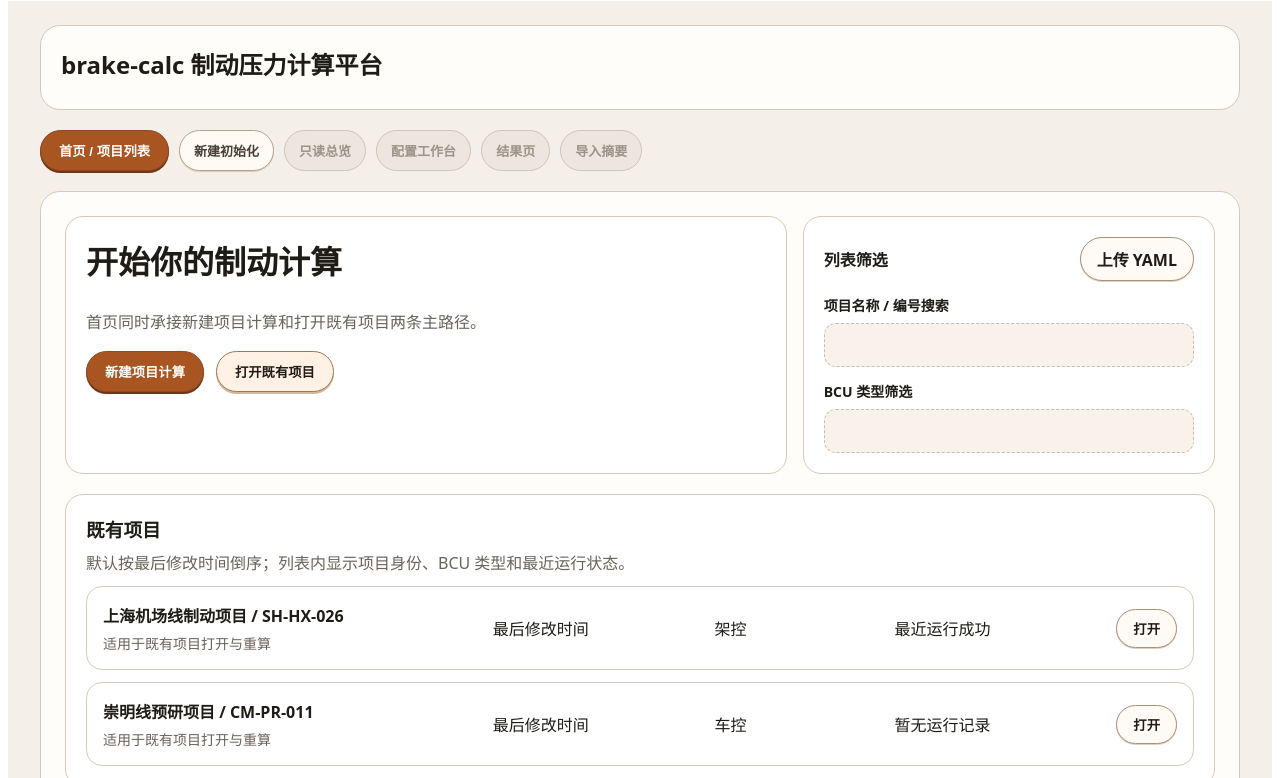
Test: App shell › renders the load and air spring form slice inside the workbench
The image size is (1280, 778).
Step 1. Click the button "首页 / 项目列表" → (105, 150), box [40, 130, 169, 171]
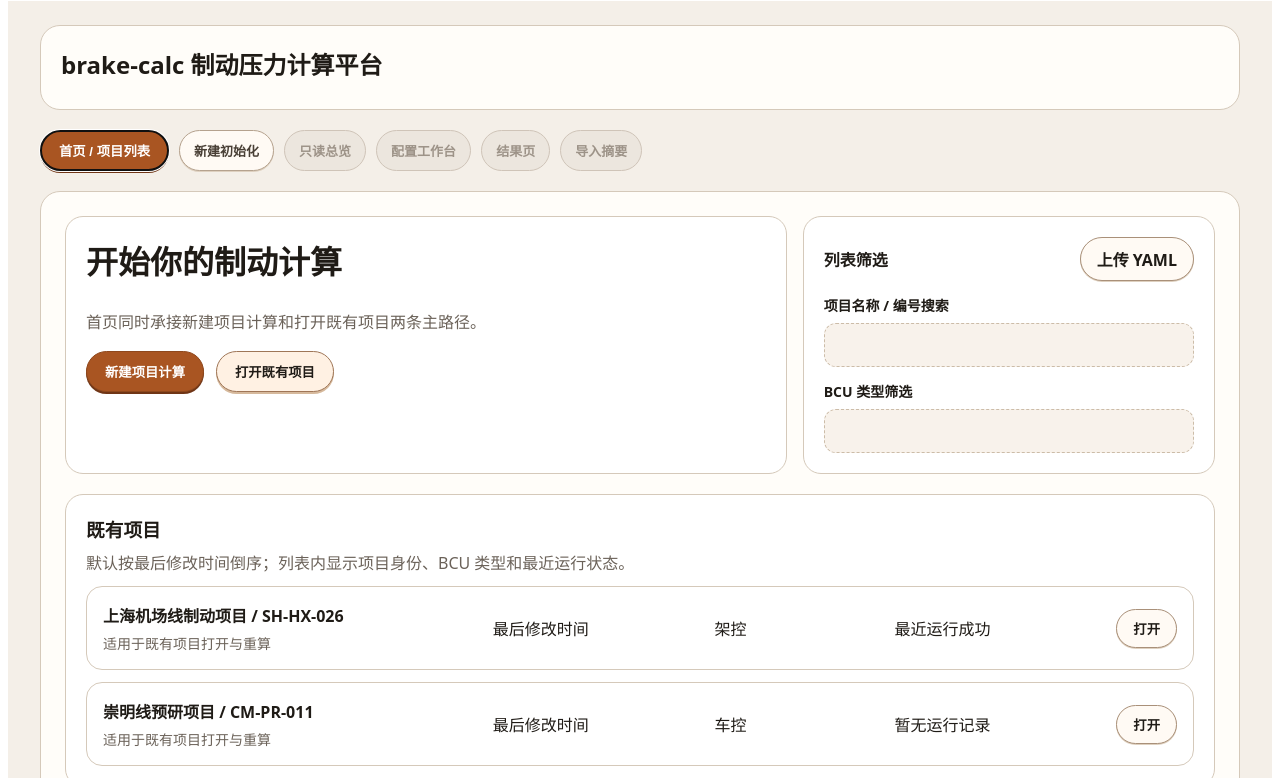
Step 2. Click the button "打开既有项目" → (275, 372), box [216, 351, 334, 392]
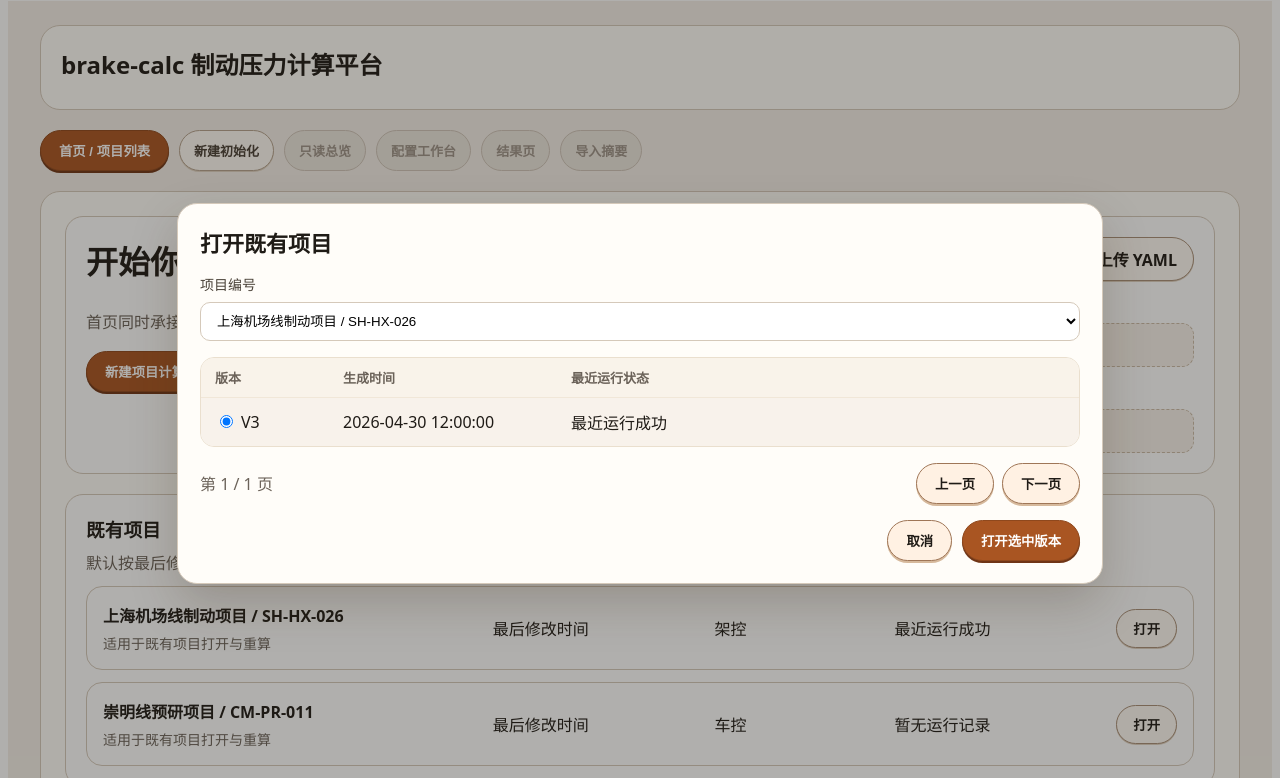
Step 3. Click the button "打开选中版本" → (1021, 540), box [962, 520, 1080, 560]
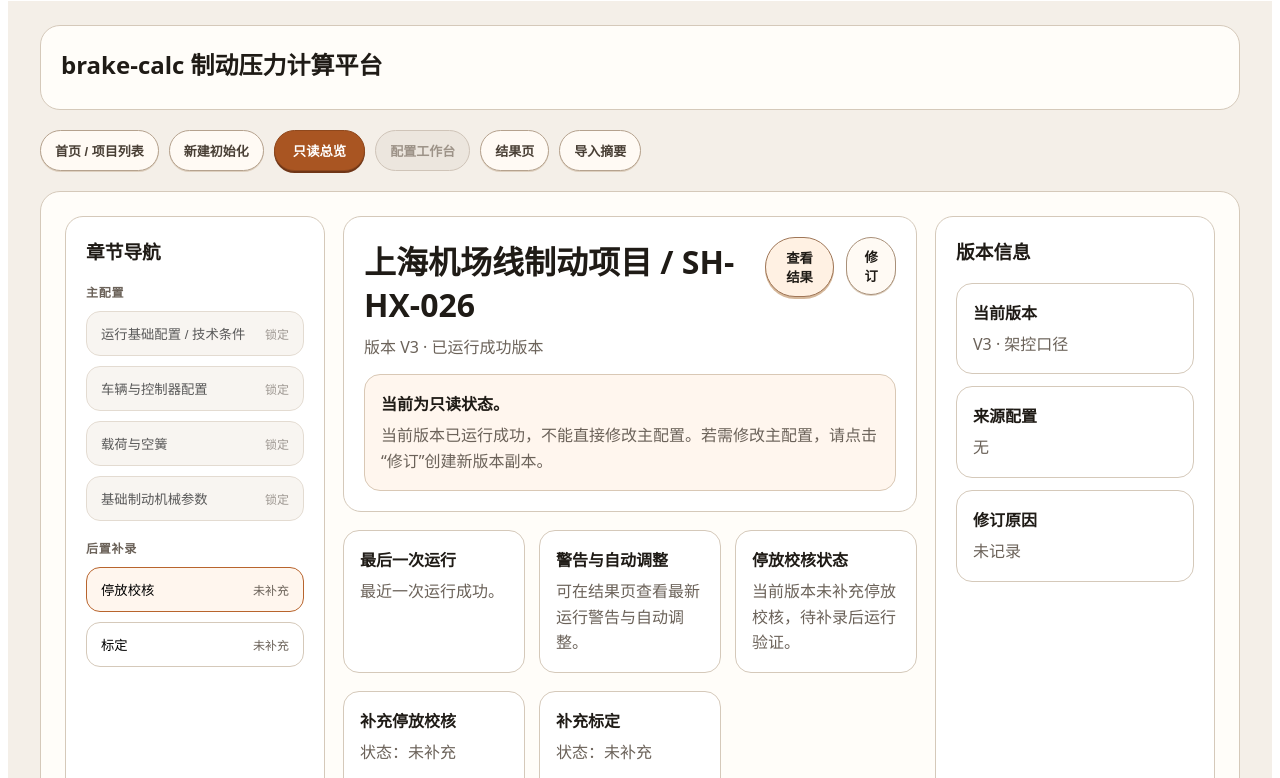
Expected: the button "修订" is shown
Step 4. Click the button "修订" → (871, 266), box [846, 237, 896, 295]
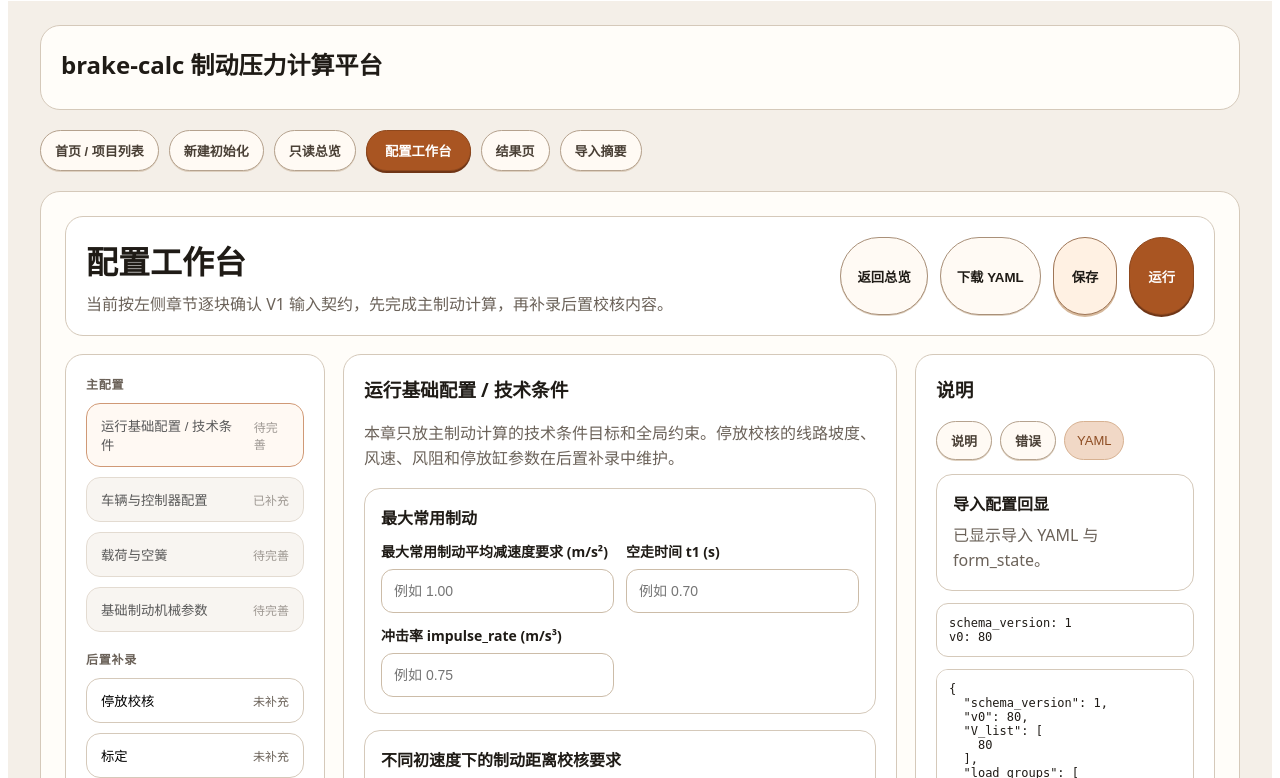
Step 5. Click the button "载荷与空簧 待完善" → (195, 554), box [86, 532, 304, 577]
(page scrolled)
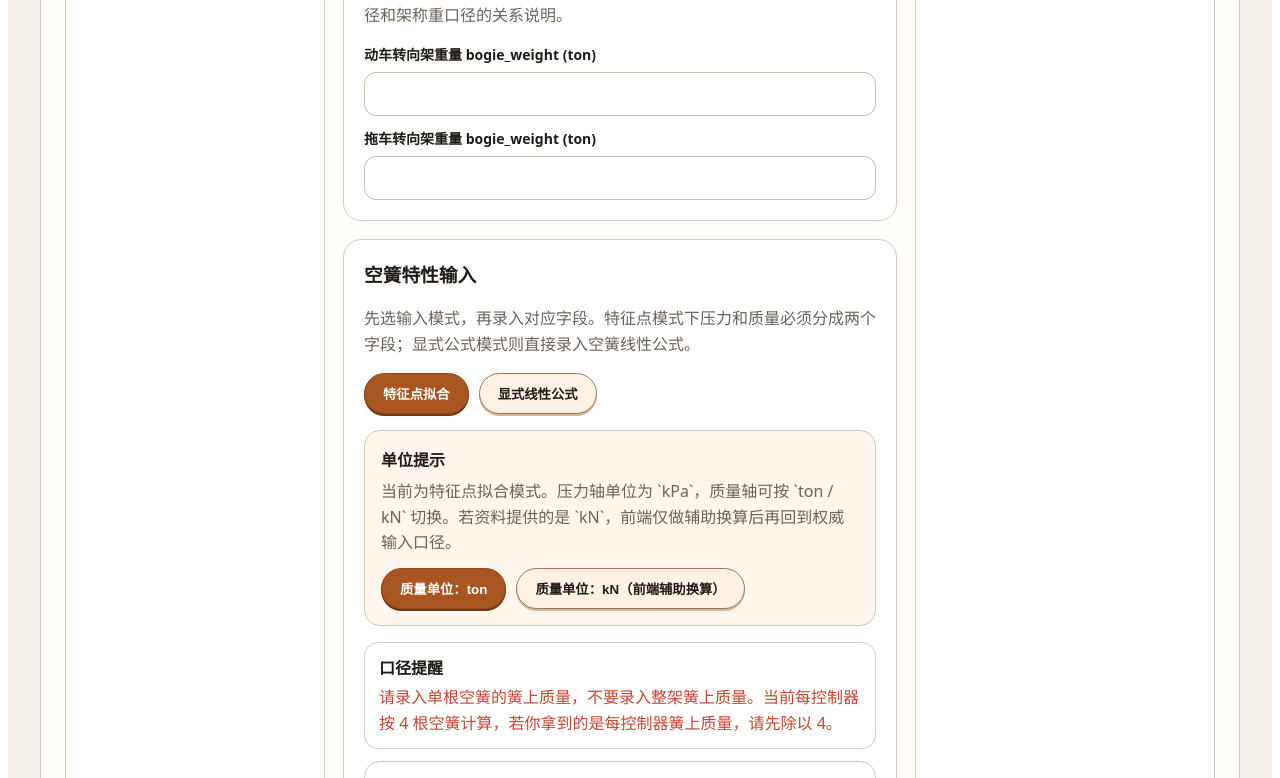
Expected: the heading "空簧特性输入" is shown, [364, 262, 476, 287]
Expected: the button "质量单位：ton" is shown, [381, 568, 506, 609]
Expected: the button "质量单位：kN（前端辅助换算）" is shown, [516, 568, 745, 609]
